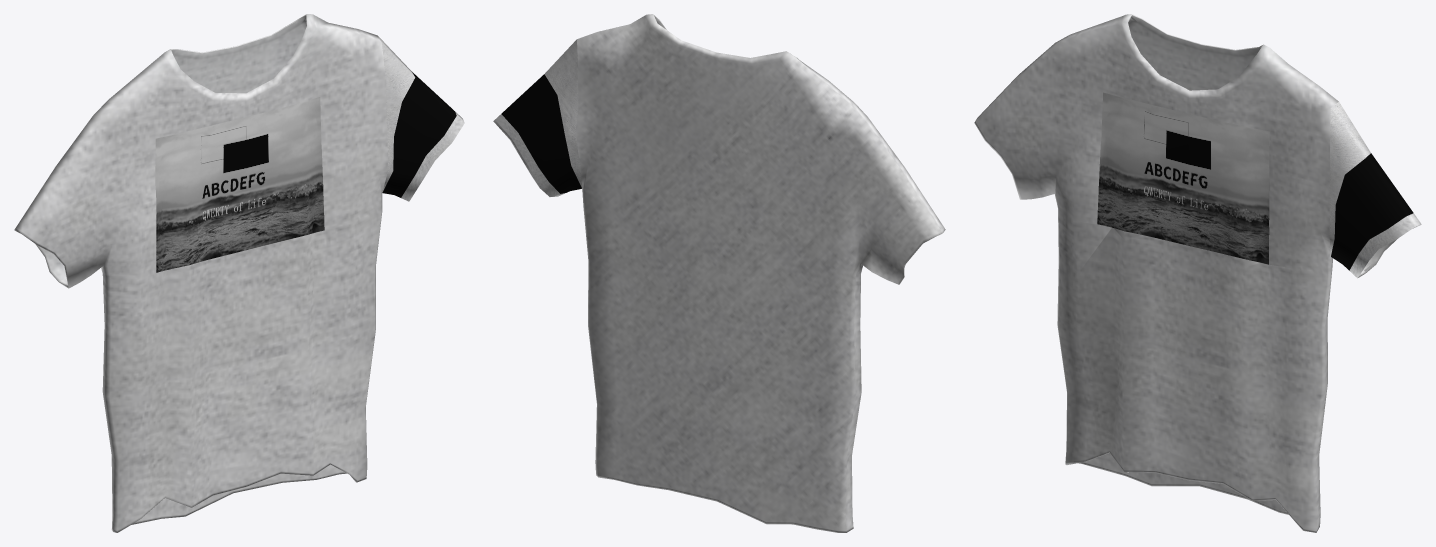
The picture shows the model from 3 angles, left to right: view 1: azimuth 30°, elevation 25°; view 2: azimuth 150°, elevation 25°; view 3: azimuth 330°, elevation 25°; orthographic projection.
Parts seen in each view (by area): view 1: Tシャツ, 動画, ude; view 2: Tシャツ, ude; view 3: Tシャツ, 動画, ude.
Part boxes in pixels (x1,y1,x2,y2): Tシャツ: [14, 14, 387, 532]; 動画: [155, 97, 324, 272]; ude: [378, 36, 464, 201]; Tシャツ: [576, 14, 945, 532]; ude: [493, 39, 582, 196]; Tシャツ: [974, 14, 1420, 532]; 動画: [1097, 92, 1269, 264]; ude: [1329, 102, 1421, 277].
Bounding box in the file's own units: 0.6413 × 0.652 × 0.0463.
3 materials, 3 textured.
